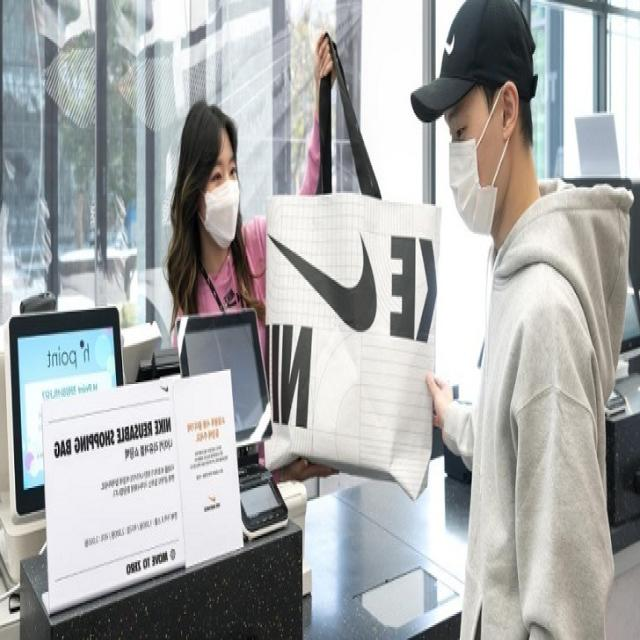nike: (267, 224, 384, 332), (264, 318, 316, 433), (442, 26, 458, 66), (206, 489, 218, 504)
